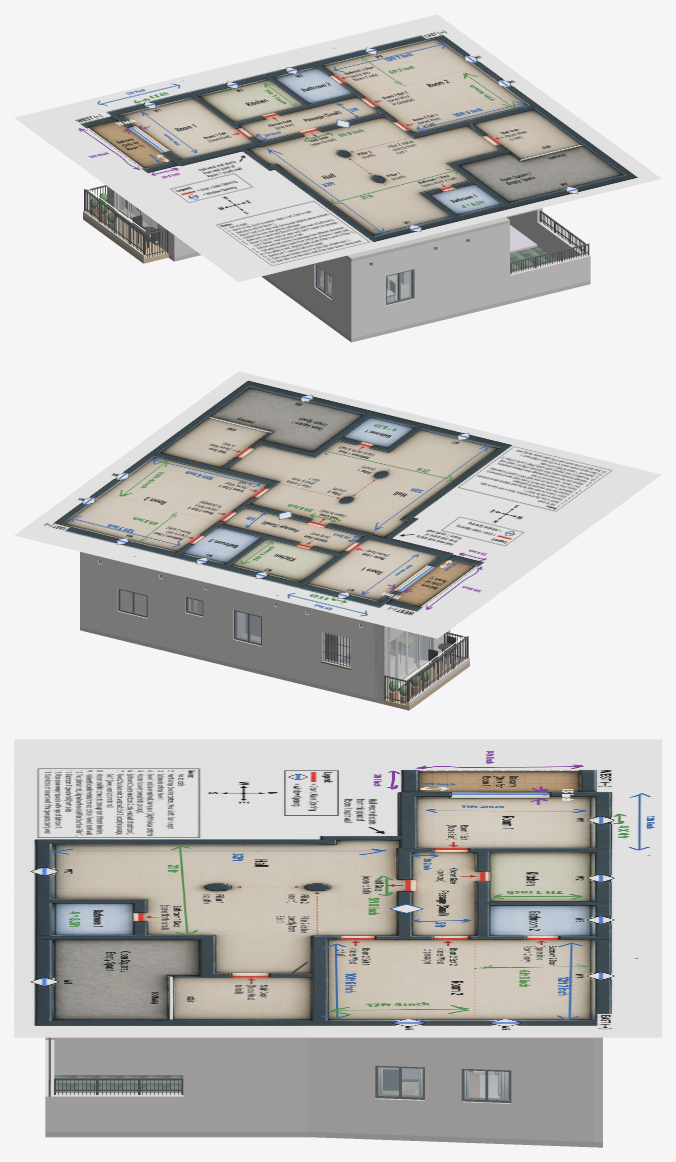
The model's file is MyFlat_V2_Hall_Budget.glb.
The picture shows the model from 3 angles, top to bottom: view 1: azimuth 30°, elevation 25°; view 2: azimuth 150°, elevation 25°; view 3: azimuth 270°, elevation 25°; orthographic projection. The views are drawn at different scales.
Parts seen in each view (by area): view 1: PLAN_REFERENCE_OVERLAY, WALL_EXT_S_HALL, WALL_EXT_W_HALL, PARAPET_OPENSQ_S, SLAB_FLOOR_STRUCTURAL, BALCONY_RAILING_W, SLAB_ROOF, BALCONY_FLOOR, PARAPET_OPENSQ_E, RAILING_OPENSQ_S, WALL_EXT_E_STAIR, HB_OPENSQ_FINISH (+3 smaller); view 2: PLAN_REFERENCE_OVERLAY, WALL_EXT_N_R1, WALL_EXT_N_R2, WALL_EXT_N_KIT, WALL_EXT_N_B2, BALCONY_RAILING_W, SLAB_FLOOR_STRUCTURAL, PILLAR_R1_NW, BALCONY_FLOOR, R1_OPD_BALCONY_CURTAIN_SHEER, WALL_EXT_W_R1_BALCONY, WINDOW_W2_GLASS; view 3: PLAN_REFERENCE_OVERLAY, WALL_EXT_E_R2_TAPERED, WALL_EXT_E_STAIR, PARAPET_OPENSQ_E, WALL_INT_OPENSQ_W, SLAB_FLOOR_STRUCTURAL, HB_OPENSQ_FINISH, WINDOW_W5_GLASS, WINDOW_W6_GLASS, RAILING_OPENSQ_E, WALL_EXT_N_R2, PARAPET_OPENSQ_S (+2 smaller).
Part boxes in pixels (x1,y1,x2,y2): PLAN_REFERENCE_OVERLAY: (14,14,661,281); WALL_EXT_S_HALL: (348,223,509,338); WALL_EXT_W_HALL: (265,256,356,338); PARAPET_OPENSQ_S: (510,254,590,299); SLAB_FLOOR_STRUCTURAL: (168,252,590,342); BALCONY_RAILING_W: (84,189,145,254); SLAB_ROOF: (344,217,509,261); BALCONY_FLOOR: (83,210,168,263); PARAPET_OPENSQ_E: (537,221,587,260); RAILING_OPENSQ_S: (510,243,589,274); WALL_EXT_E_STAIR: (507,208,542,244); HB_OPENSQ_FINISH: (510,246,556,272); PLAN_REFERENCE_OVERLAY: (14,371,661,638); WALL_EXT_N_R1: (283,601,387,700); WALL_EXT_N_R2: (80,553,176,649); WALL_EXT_N_KIT: (211,584,283,676); WALL_EXT_N_B2: (177,575,211,658); BALCONY_RAILING_W: (407,636,468,701); SLAB_FLOOR_STRUCTURAL: (80,626,449,704); PILLAR_R1_NW: (374,623,390,700); BALCONY_FLOOR: (384,657,469,710); R1_OPD_BALCONY_CURTAIN_SHEER: (390,632,421,680); WALL_EXT_W_R1_BALCONY: (375,624,449,698); WINDOW_W2_GLASS: (236,611,260,642); PLAN_REFERENCE_OVERLAY: (14,739,661,1037); WALL_EXT_E_R2_TAPERED: (307,1037,594,1141); WALL_EXT_E_STAIR: (183,1037,307,1131); PARAPET_OPENSQ_E: (54,1093,183,1131); WALL_INT_OPENSQ_W: (54,1037,183,1074); SLAB_FLOOR_STRUCTURAL: (45,1131,602,1147); HB_OPENSQ_FINISH: (54,1075,183,1092); WINDOW_W5_GLASS: (464,1070,508,1099); WINDOW_W6_GLASS: (378,1067,422,1096); RAILING_OPENSQ_E: (54,1078,183,1094); WALL_EXT_N_R2: (594,1037,602,1142); PARAPET_OPENSQ_S: (45,1040,54,1131).
Size of what is drawn, in the model's own units: 18.03 by 4.33 by 16.55.
105 materials, 4 textured.
